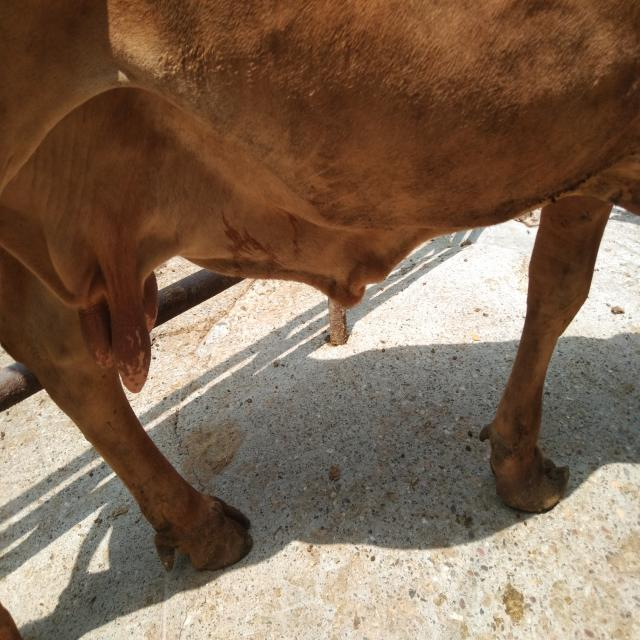Hoof: (479, 421, 570, 513), (153, 493, 253, 573)
